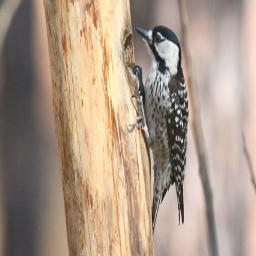Woodpecker: (126, 23, 188, 233)
